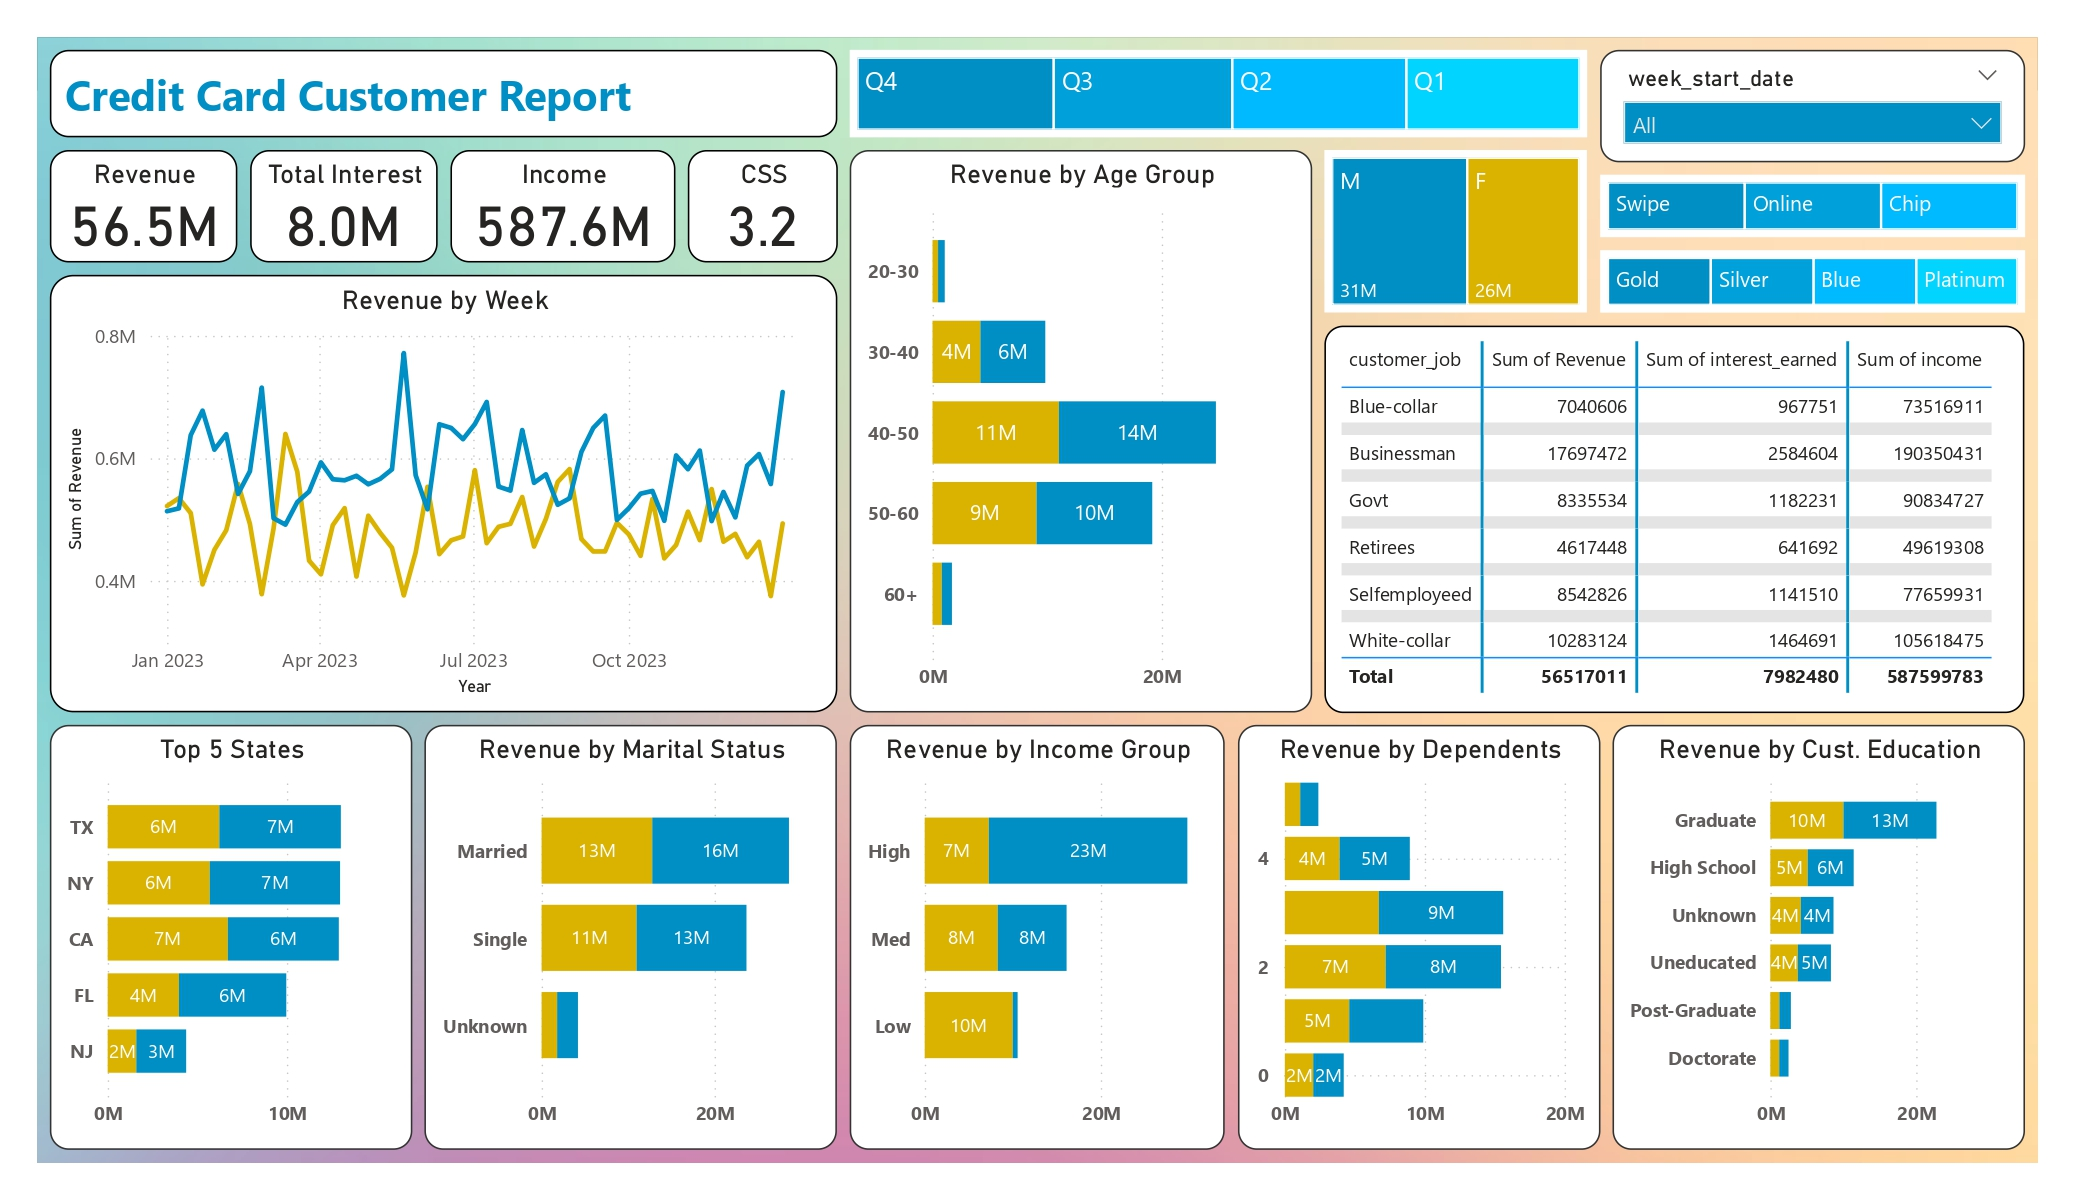

This screenshot's page, from the dashboard's own definition file:
{"tool":"powerbi","page":{"name":"CC Customer","canvas":[1280,720],"ordinal":1},"visuals":[{"type":"textbox","box":[8,8,504,56],"z":0},{"type":"barChart","title":"Revenue by Income Group","fields":{"Y":["Sum(public cc_detail.Revenue)"],"Category":["public cust_detail.IncomeGroup"],"Series":["public cust_detail.gender"]},"box":[520,440,240,272],"z":1000},{"type":"tableEx","fields":{"Values":["public cust_detail.customer_job","Sum(public cc_detail.Revenue)","Sum(public cc_detail.interest_earned)","Sum(public cust_detail.income)"]},"box":[824,184,448,248],"z":2000},{"type":"card","title":"Revenue","fields":{"Values":["Sum(public cc_detail.Revenue)"]},"box":[8,72,120,72],"z":3000},{"type":"card","title":"Total Interest","fields":{"Values":["Sum(public cc_detail.interest_earned)"]},"box":[136,72,120,72],"z":4000},{"type":"card","title":"Income","fields":{"Values":["Sum(public cust_detail.income)"]},"box":[264,72,144,72],"z":5000},{"type":"card","title":"CSS","fields":{"Values":["Avg(public cust_detail.cust_satisfaction_score)"]},"box":[416,72,96,72],"z":6000},{"type":"slicer","fields":{"Values":["public cc_detail.week_start_date"]},"box":[1000,8,272,72],"z":7000},{"type":"treemap","fields":{"Group":["public cc_detail.qtr"],"Values":["Avg(public cust_detail.client_num)"]},"box":[520,8,472,56],"z":8000},{"type":"treemap","fields":{"Values":["Avg(public cust_detail.client_num)"],"Group":["public cc_detail.card_category"]},"box":[1000,136,272,40],"z":9000},{"type":"lineChart","title":"Revenue by Week","fields":{"Y":["Sum(public cc_detail.Revenue)"],"Series":["public cust_detail.gender"],"Category":["public cc_detail.week_start_date.Variation.Date Hierarchy.Year","public cc_detail.week_start_date.Variation.Date Hierarchy.Month","public cc_detail.week_start_date.Variation.Date Hierarchy.Day"]},"box":[8,152,504,280],"z":10000},{"type":"treemap","fields":{"Group":["public cust_detail.gender"],"Values":["Sum(public cc_detail.Revenue)"]},"box":[824,72,168,104],"z":11000},{"type":"barChart","title":"Revenue by Dependents","fields":{"Y":["Sum(public cc_detail.Revenue)"],"Category":["public cust_detail.dependent_count"],"Series":["public cust_detail.gender"]},"box":[768,440,232,272],"z":12000},{"type":"barChart","title":"Revenue by Age Group","fields":{"Y":["Sum(public cc_detail.Revenue)"],"Category":["public cust_detail.AgeGroup"],"Series":["public cust_detail.gender"]},"box":[520,72,296,360],"z":13000},{"type":"barChart","title":"Revenue by Cust. Education","fields":{"Y":["Sum(public cc_detail.Revenue)"],"Category":["public cust_detail.education_level"],"Series":["public cust_detail.gender"]},"box":[1008,440,264,272],"z":14000},{"type":"barChart","title":"Top 5 States","fields":{"Y":["Sum(public cc_detail.Revenue)"],"Category":["public cust_detail.state_cd"],"Series":["public cust_detail.gender"]},"box":[8,440,232,272],"z":15000},{"type":"barChart","title":"Revenue by Marital Status","fields":{"Y":["Sum(public cc_detail.Revenue)"],"Series":["public cust_detail.gender"],"Category":["public cust_detail.marital_status"]},"box":[248,440,264,272],"z":16000},{"type":"treemap","fields":{"Values":["Avg(public cust_detail.client_num)"],"Group":["public cc_detail.use_chip"]},"box":[1000,88,272,40],"z":17000}]}

Visuals, with their boxes in screenshot pixels (x1, y1, x2, y2):
textbox: pyautogui.locateOnScreen(50, 50, 838, 138)
"Revenue by Income Group" barChart: pyautogui.locateOnScreen(850, 725, 1225, 1150)
tableEx - public cust_detail.customer_job x Sum(public cc_detail.Revenue): pyautogui.locateOnScreen(1325, 325, 2025, 712)
"Revenue" card: pyautogui.locateOnScreen(50, 150, 238, 262)
"Total Interest" card: pyautogui.locateOnScreen(250, 150, 438, 262)
"Income" card: pyautogui.locateOnScreen(450, 150, 675, 262)
"CSS" card: pyautogui.locateOnScreen(688, 150, 838, 262)
slicer - public cc_detail.week_start_date: pyautogui.locateOnScreen(1600, 50, 2025, 162)
treemap - public cc_detail.qtr x Avg(public cust_detail.client_num): pyautogui.locateOnScreen(850, 50, 1588, 138)
treemap - Avg(public cust_detail.client_num) x public cc_detail.card_category: pyautogui.locateOnScreen(1600, 250, 2025, 312)
"Revenue by Week" lineChart: pyautogui.locateOnScreen(50, 275, 838, 712)
treemap - public cust_detail.gender x Sum(public cc_detail.Revenue): pyautogui.locateOnScreen(1325, 150, 1588, 312)
"Revenue by Dependents" barChart: pyautogui.locateOnScreen(1238, 725, 1600, 1150)
"Revenue by Age Group" barChart: pyautogui.locateOnScreen(850, 150, 1312, 712)
"Revenue by Cust. Education" barChart: pyautogui.locateOnScreen(1612, 725, 2025, 1150)
"Top 5 States" barChart: pyautogui.locateOnScreen(50, 725, 412, 1150)
"Revenue by Marital Status" barChart: pyautogui.locateOnScreen(425, 725, 838, 1150)
treemap - Avg(public cust_detail.client_num) x public cc_detail.use_chip: pyautogui.locateOnScreen(1600, 175, 2025, 238)
